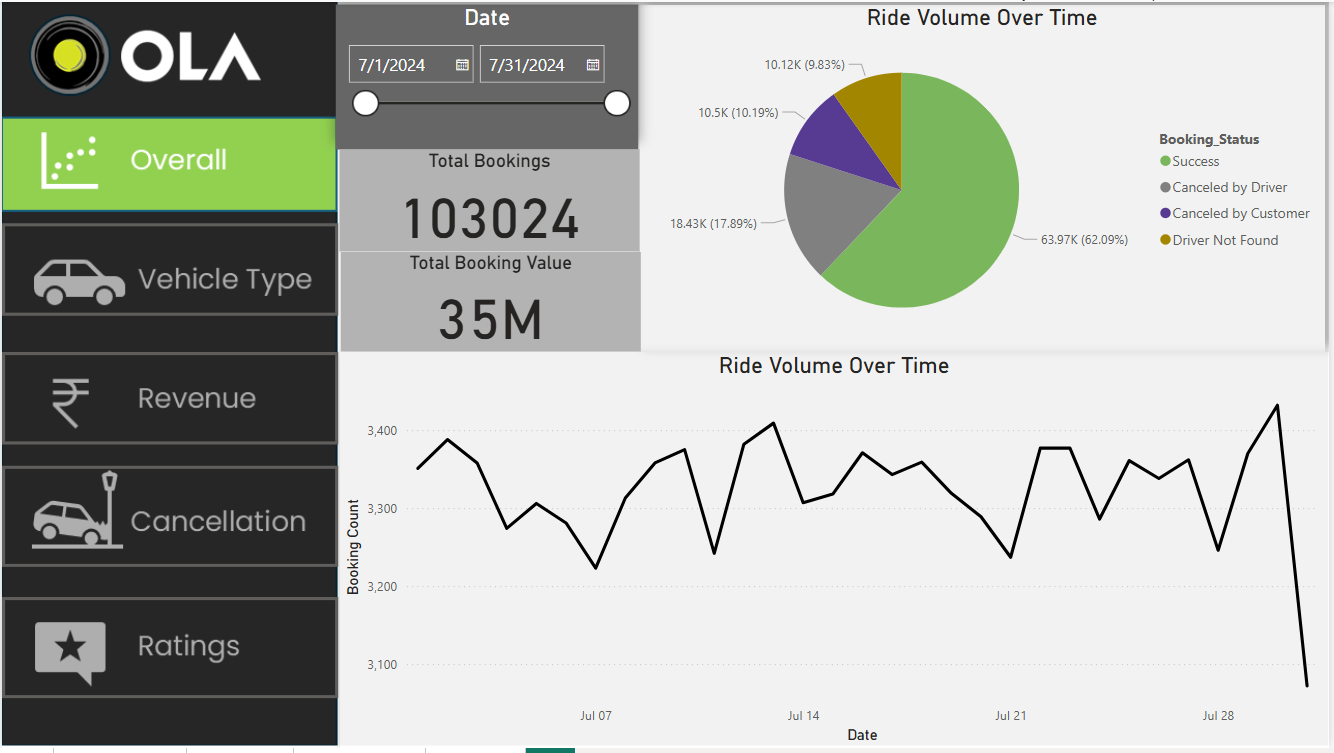

This screenshot's page, from the dashboard's own definition file:
{"tool":"powerbi","page":{"name":"Overall","canvas":[1280,720],"ordinal":0},"visuals":[{"type":"actionButton","box":[0,213.5,324.5,89.3],"z":0},{"type":"actionButton","box":[0,337.8,324.5,89.3],"z":1000},{"type":"actionButton","box":[0,447.6,324.5,97.7],"z":2000},{"type":"actionButton","box":[0,574.3,324.5,97.7],"z":3000},{"type":"lineChart","title":"Ride Volume Over Time","fields":{"Y":["CountNonNull(July.Booking_ID)"],"Category":["July.Date"]},"box":[324.9,337.1,955.1,382.8],"z":4000},{"type":"pieChart","title":"Ride Volume Over Time","fields":{"Y":["CountNonNull(July.Booking_ID)"],"Category":["July.Booking_Status"]},"box":[614.8,2.7,661.4,334.8],"z":5000},{"type":"slicer","title":"Date","fields":{"Values":["July.Date"]},"box":[322.5,2.7,292.3,140],"z":6000},{"type":"card","title":"Total Bookings","fields":{"Values":["Count(July.Booking_ID)"]},"box":[325.2,142.7,289.5,98.8],"z":7000},{"type":"card","title":"Total Booking Value","fields":{"Values":["Sum(July.Booking_Value)"]},"box":[326.6,241.5,289.5,96.1],"z":8000}]}

Visuals, with their boxes in screenshot pixels (x1, y1, x2, y2), scaled from the page's 1280x720 canvas onto the 1334x753 screenshot:
actionButton: bbox=[0, 223, 338, 317]
actionButton: bbox=[0, 353, 338, 447]
actionButton: bbox=[0, 468, 338, 570]
actionButton: bbox=[0, 601, 338, 703]
"Ride Volume Over Time" lineChart: bbox=[339, 353, 1333, 752]
"Ride Volume Over Time" pieChart: bbox=[641, 3, 1330, 353]
"Date" slicer: bbox=[336, 3, 641, 149]
"Total Bookings" card: bbox=[339, 149, 641, 253]
"Total Booking Value" card: bbox=[340, 253, 642, 353]
